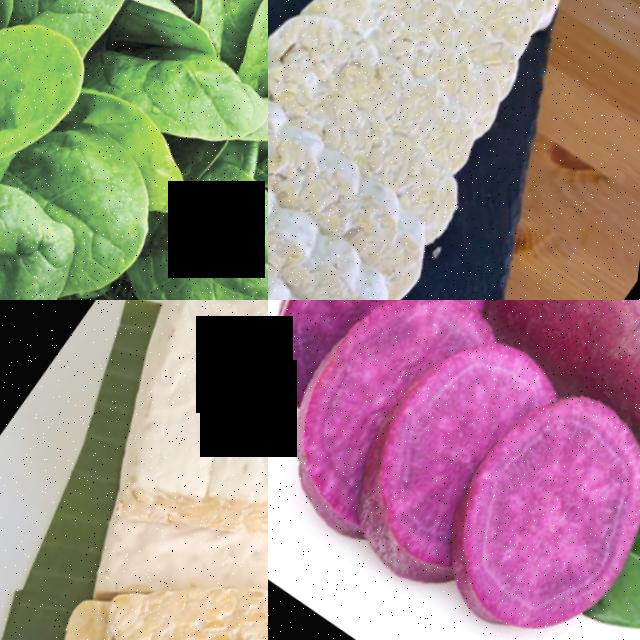spinach: (14, 100, 203, 264), (113, 8, 268, 159), (128, 143, 268, 300), (0, 117, 116, 300), (0, 0, 114, 182), (9, 0, 157, 56)
sweet potato: (417, 354, 640, 640), (268, 300, 487, 522), (479, 300, 640, 484), (268, 300, 451, 410)
tempeh: (268, 0, 595, 212), (42, 300, 268, 603), (268, 62, 469, 300), (94, 511, 268, 640)
